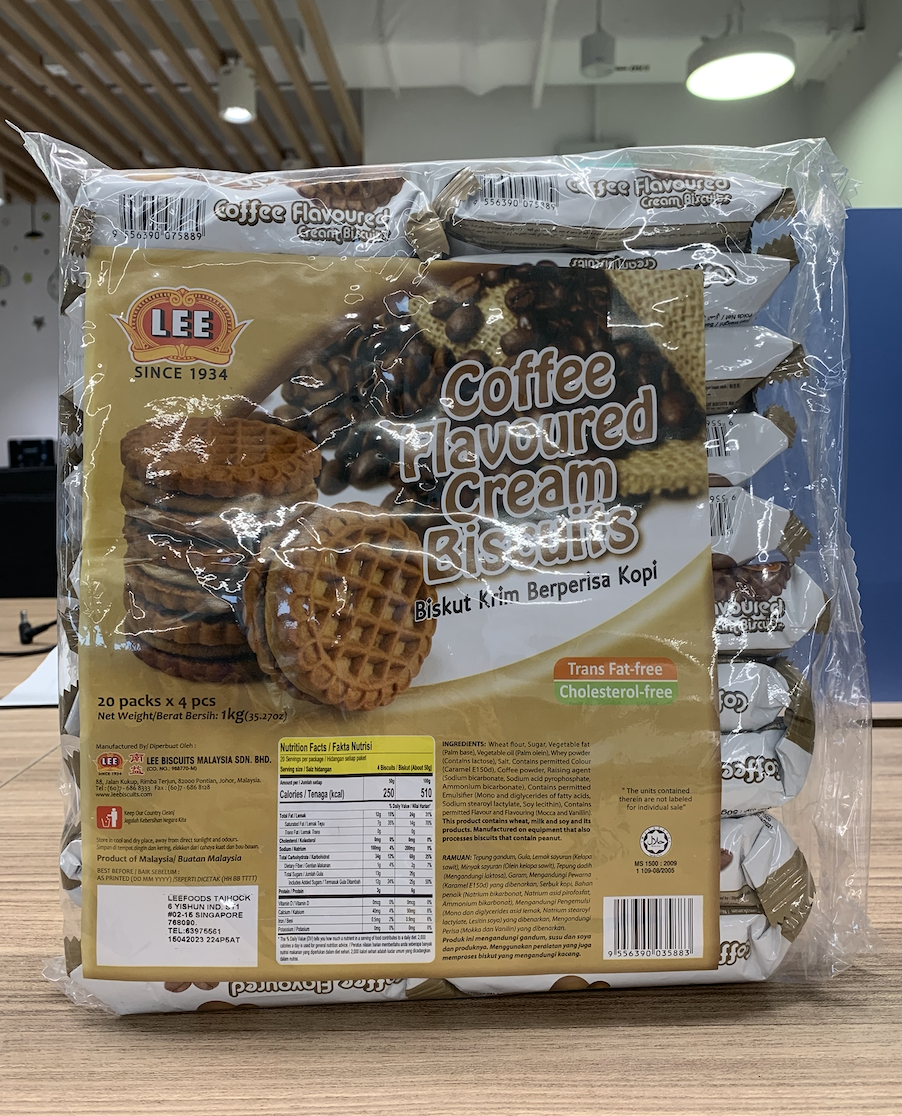cookies_1kg-1.99kg: (81, 178, 788, 956)
